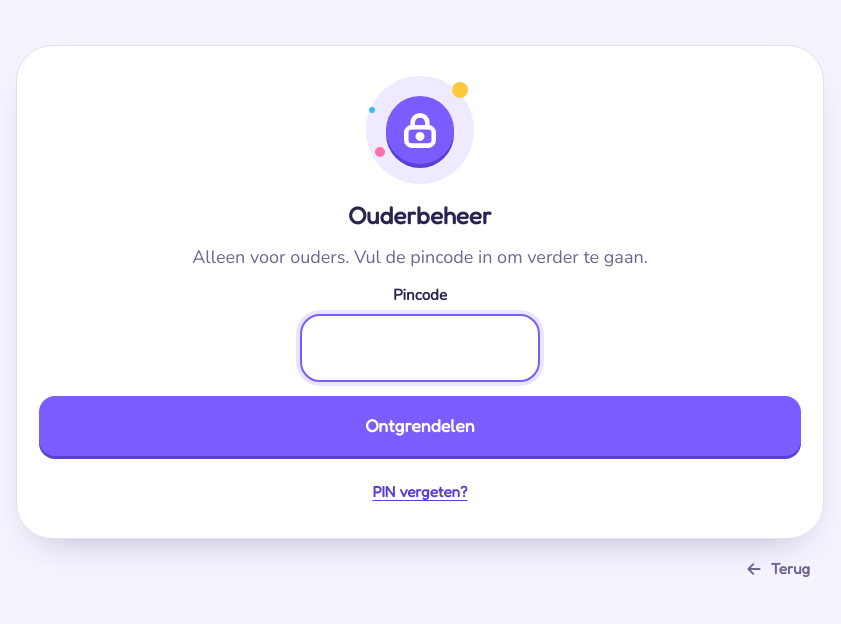
Test: met PIN › weigert een verkeerde of onvolledige PIN
Type "12" into the password field labelled "Pincode". click: [420, 348]
box: [300,314,540,382]
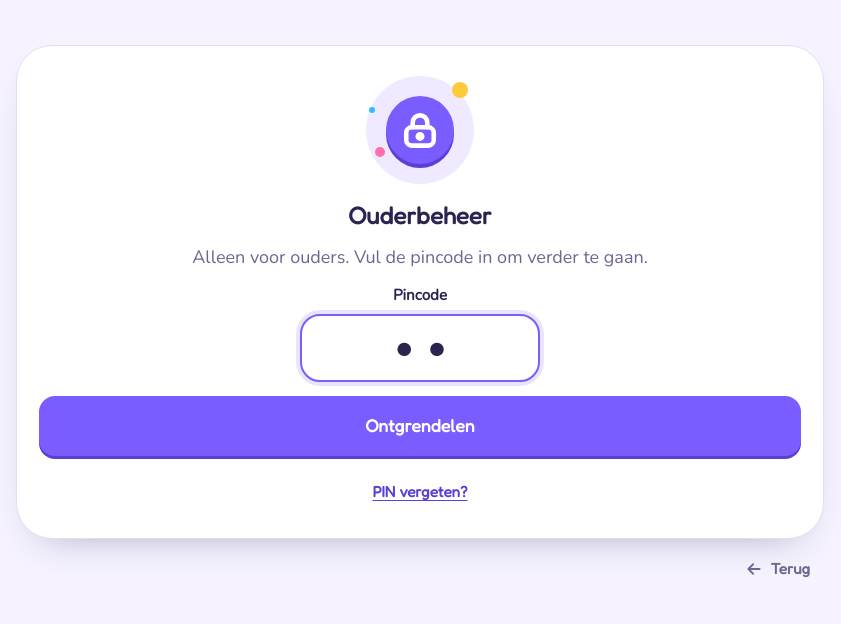
Click the button "Ontgrendelen". click: [420, 426]
box: [39,396,801,456]
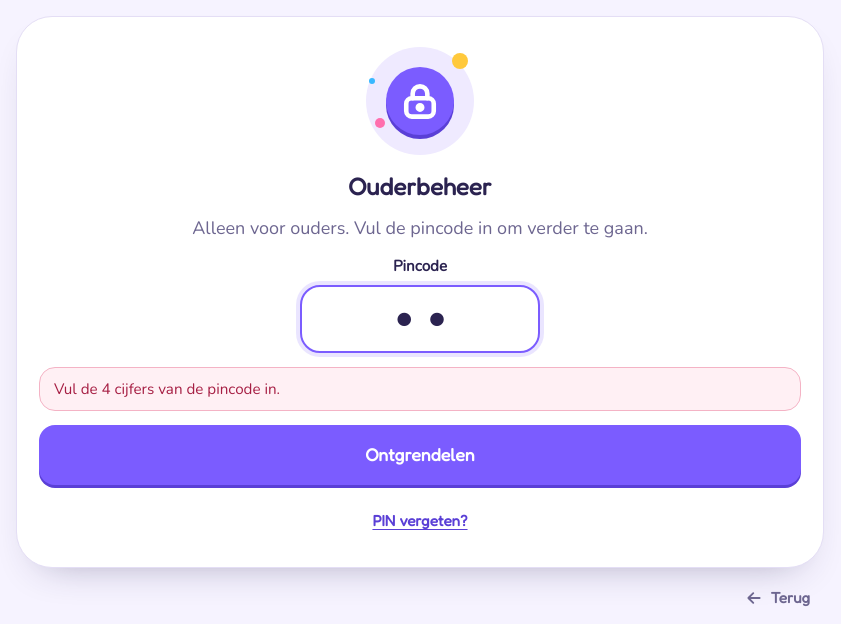
Check: the message shows "Vul de 4 cijfers", box [54,379,280,399]
Type "1111" into the password field labelled "Pincode". click: [420, 319]
box: [300,285,540,353]
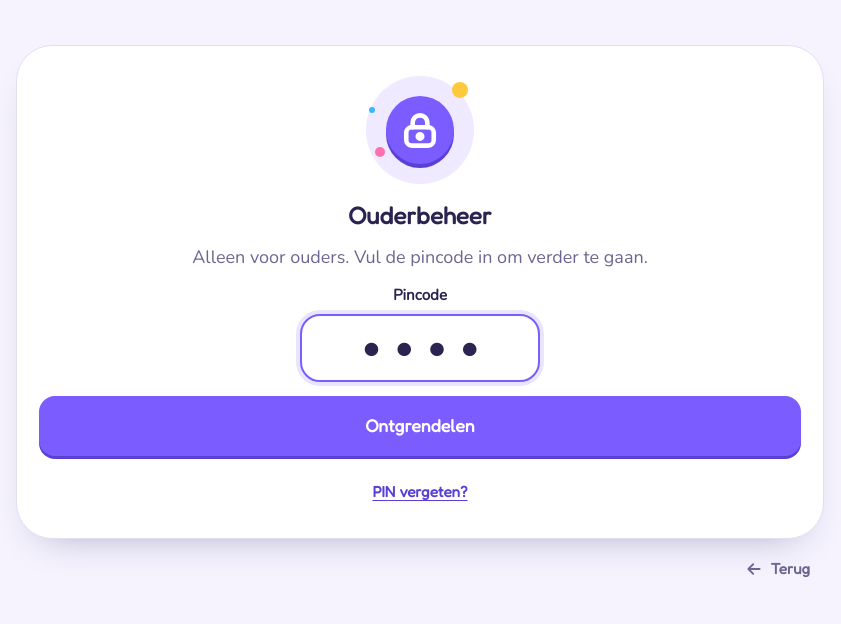
Click the button "Ontgrendelen". click: [420, 426]
box: [39,396,801,456]
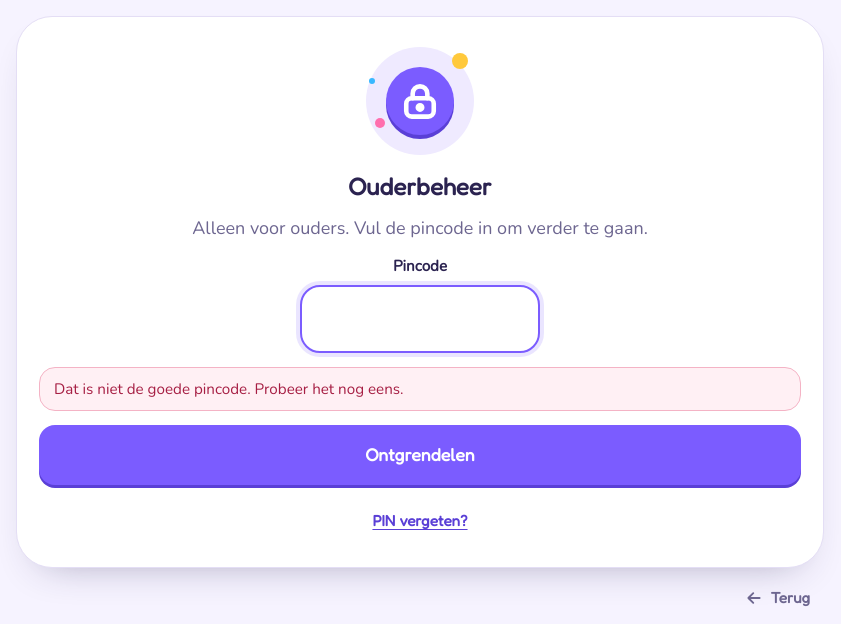
Check: the password field labelled "Pincode" is empty, box [300,285,540,353]
